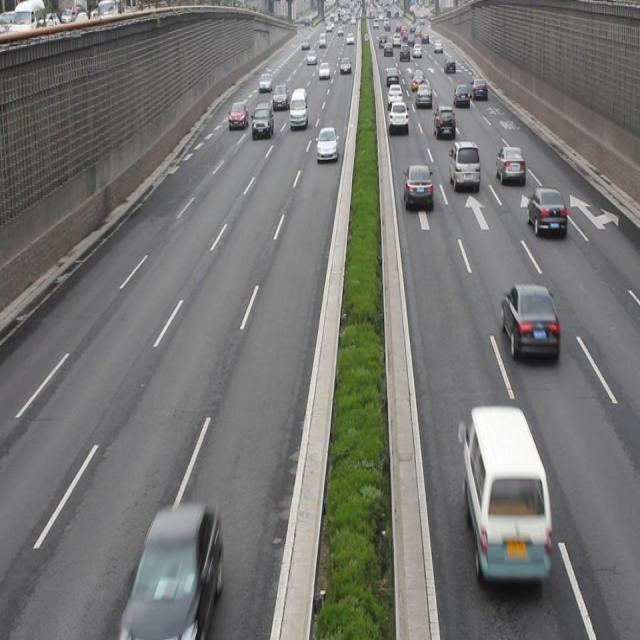car: (127, 501, 221, 640), (500, 282, 559, 360), (526, 184, 565, 238), (448, 140, 479, 191), (404, 162, 432, 209), (494, 145, 526, 186), (432, 103, 457, 142), (316, 126, 338, 162), (388, 100, 408, 132)
truck: (464, 404, 554, 584)
